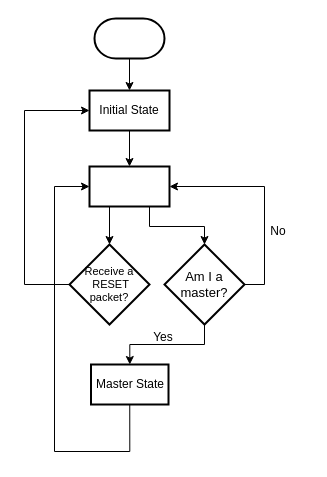
This 327x477 diagram has some shape labels left out. The shapes that lost their labels are listed below. From the top down, each one's centre as x and y in pixels, then its label:
At (129,38): "Start".
At (129,186): "Sensor Reading State".
